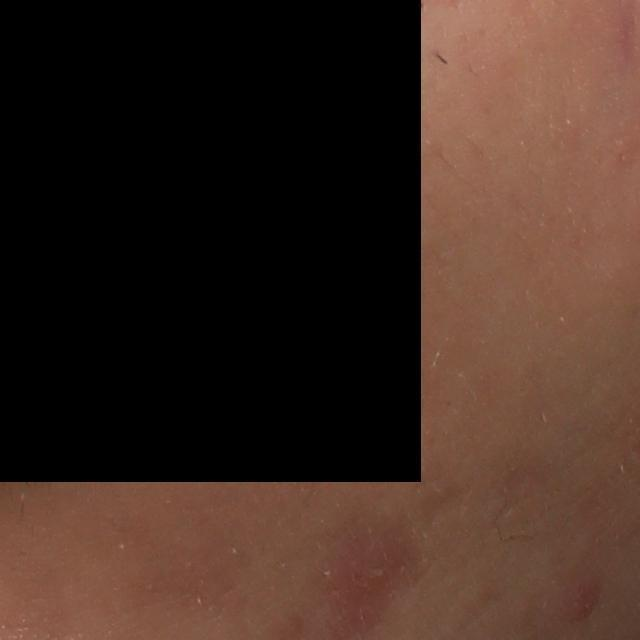papule: (564, 583, 599, 627)
